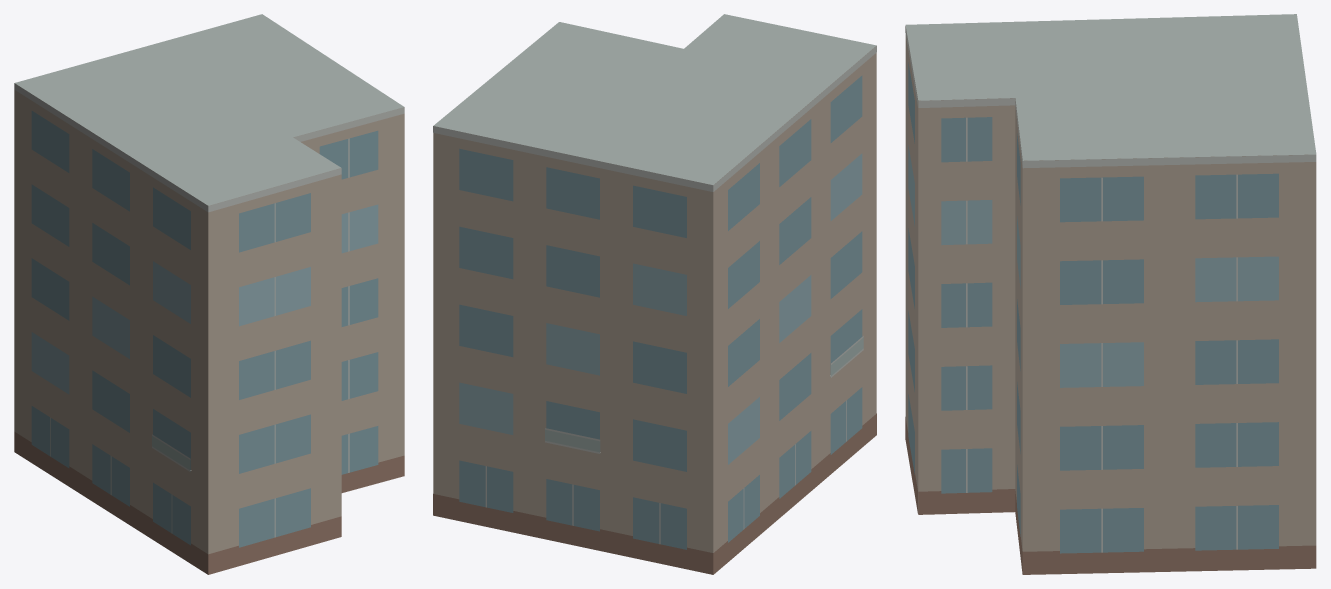
The model's file is survey-upis-32881146.glb.
3 renders of one model, left to right at view 1: azimuth 30°, elevation 25°; view 2: azimuth 150°, elevation 25°; view 3: azimuth 270°, elevation 25°, orthographic. The views are drawn at different scales.
Parts seen in each view (by area): view 1: survey-upis-32881146.tmp; view 2: survey-upis-32881146.tmp; view 3: survey-upis-32881146.tmp.
Part boxes in pixels (<box>): survey-upis-32881146.tmp: <box>14,14,404,574</box>; survey-upis-32881146.tmp: <box>433,14,876,574</box>; survey-upis-32881146.tmp: <box>905,14,1316,574</box>.
Size of the model in its own units: 10.43 by 13.7 by 12.33.
